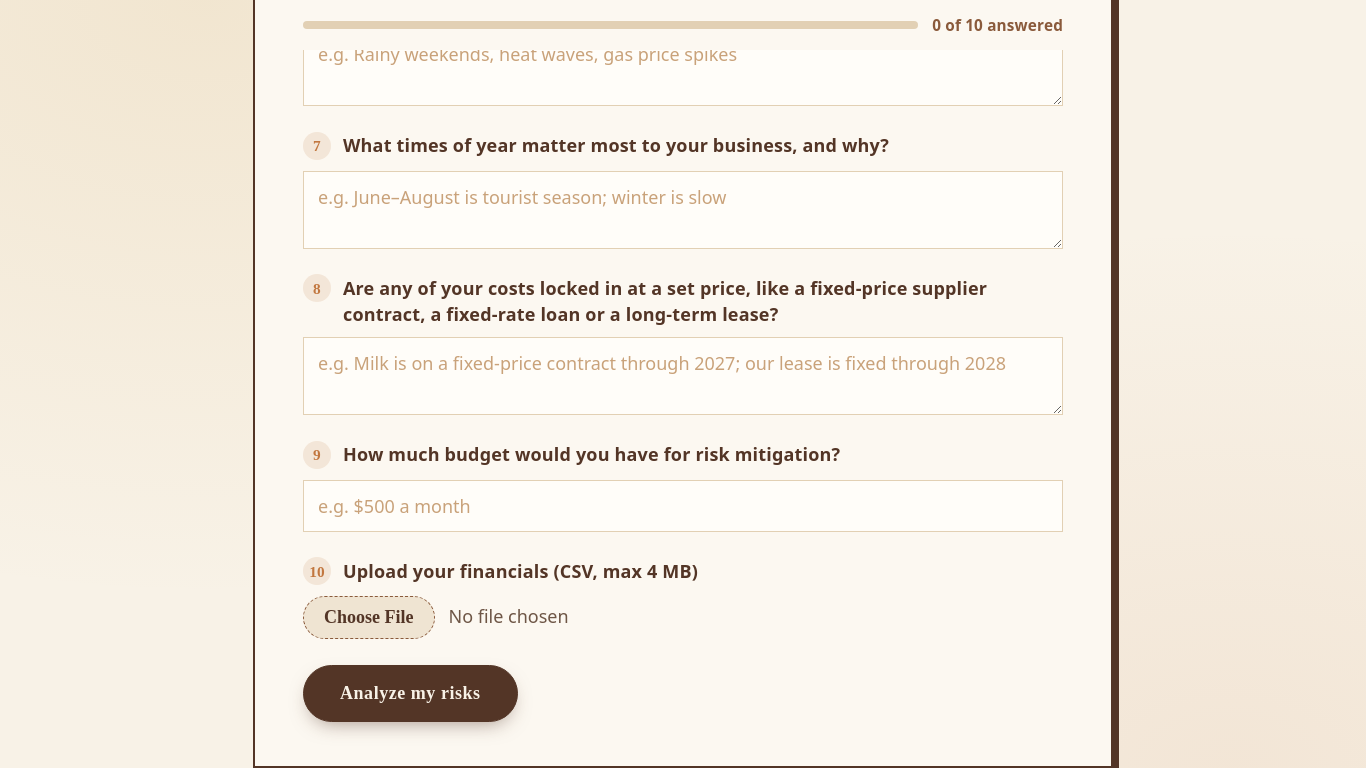
Test: QuestionnairePage › asks for the CSV before submitting when the real backend needs it
(page scrolled)
Click the button "Analyze my risks" at (410, 694), box x1=303 y1=666 x2=518 y2=722
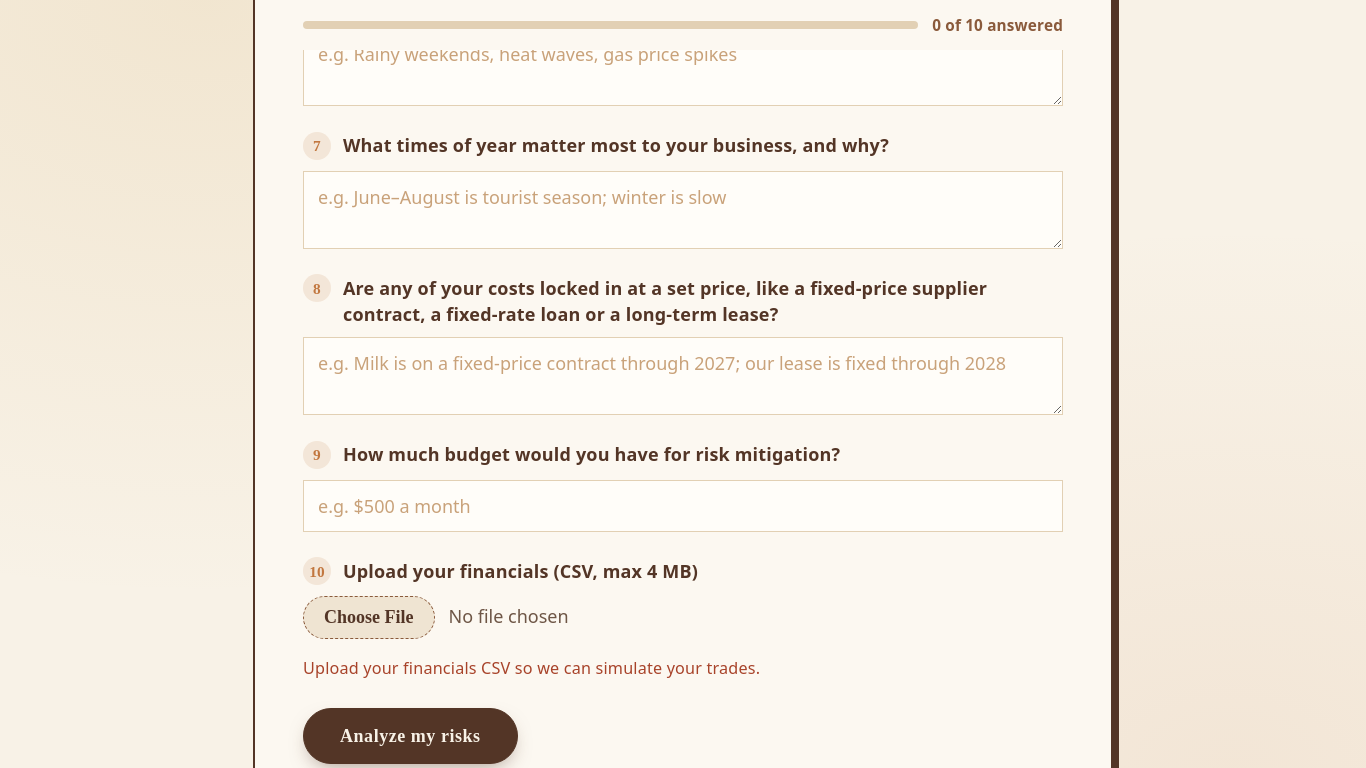
Check: the text "Upload your financials CSV so we can simulate your trades." is shown, box x1=303 y1=658 x2=760 y2=680
